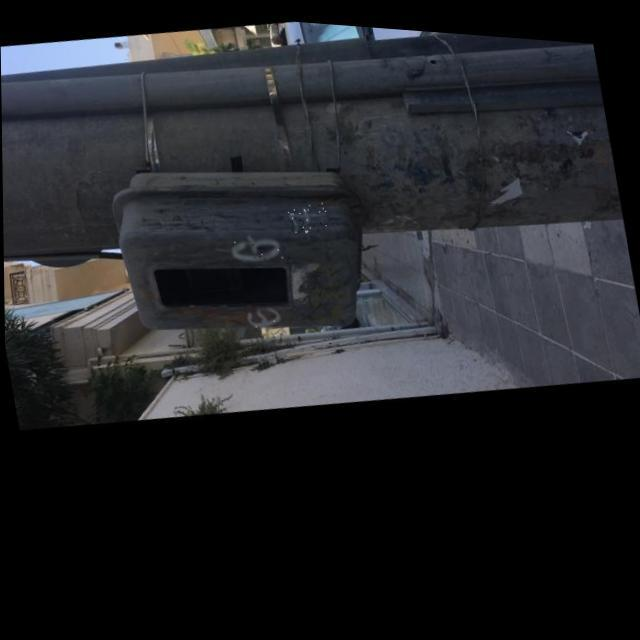-: (224, 222, 286, 266), (287, 196, 329, 232), (244, 300, 284, 329)
